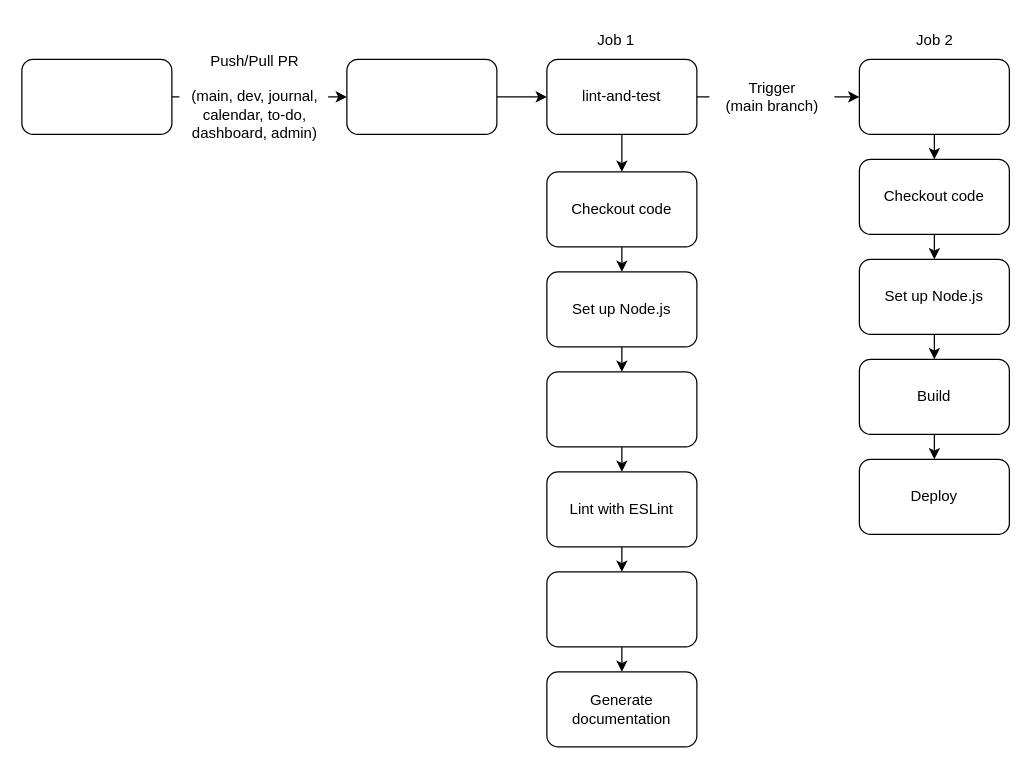
The diagram is 1031 pixels wide and 769 high, and some of its shapes have lost their labels. The shapes that lost their labels are listed below. From the top down, each one's box as (x1, y1, x2, y2) in pixels, then its label:
(21, 58, 172, 134): Developers
(346, 58, 497, 134): Source Code Managment (runs on ubuntu)
(858, 58, 1009, 134): build-and-deploy
(546, 371, 697, 447): Install dependencies
(546, 571, 697, 647): Run unit tests
